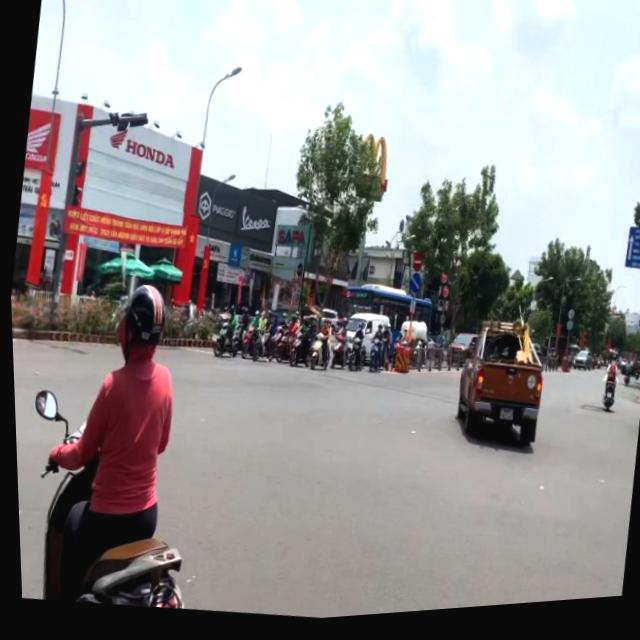Cam di nguoc chieu: (409, 256, 423, 280)
Vong chuong ngai vat sang phai: (406, 277, 420, 301)
